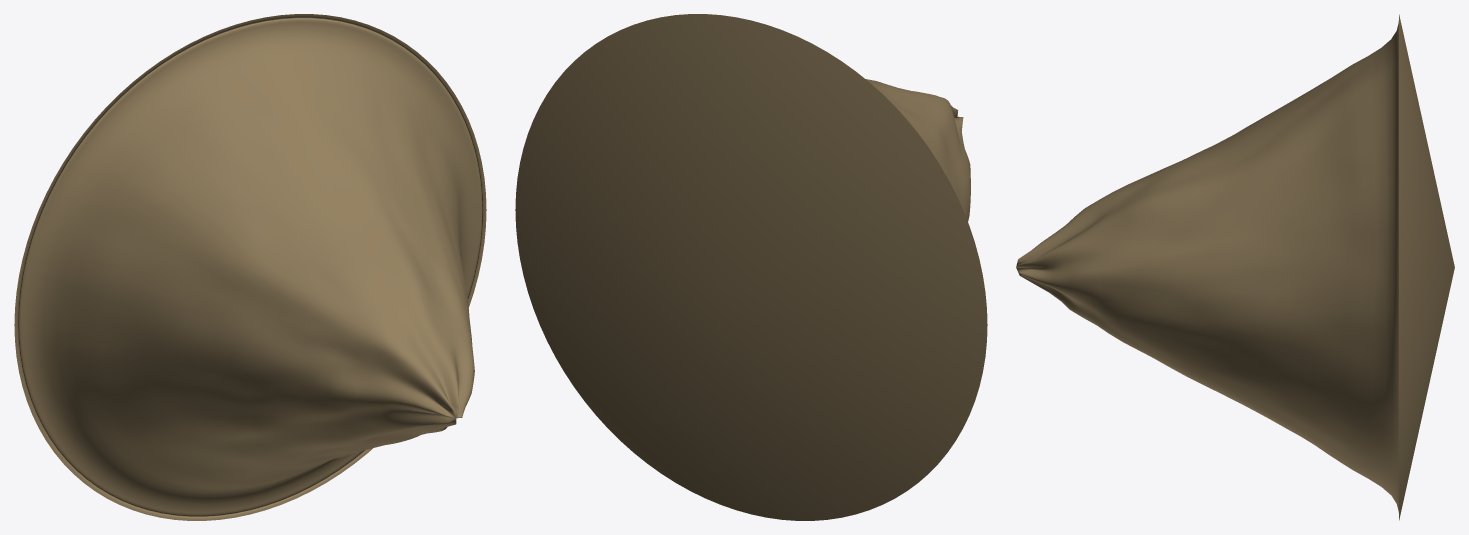
The model's file is hill-v2.glb.
3 renders of one model, left to right at view 1: azimuth 30°, elevation 25°; view 2: azimuth 150°, elevation 25°; view 3: azimuth 270°, elevation 25°, orthographic. The views are drawn at different scales.
Visible parts, largest first — view 1: hill_v2; view 2: hill_v2; view 3: hill_v2.
Boxes of the visible parts, x1,y1,x2,y2 form: hill_v2: (14, 14, 486, 520); hill_v2: (515, 14, 987, 520); hill_v2: (1016, 14, 1454, 520).
Size of the model in its own units: 2 by 2 by 1.73.
